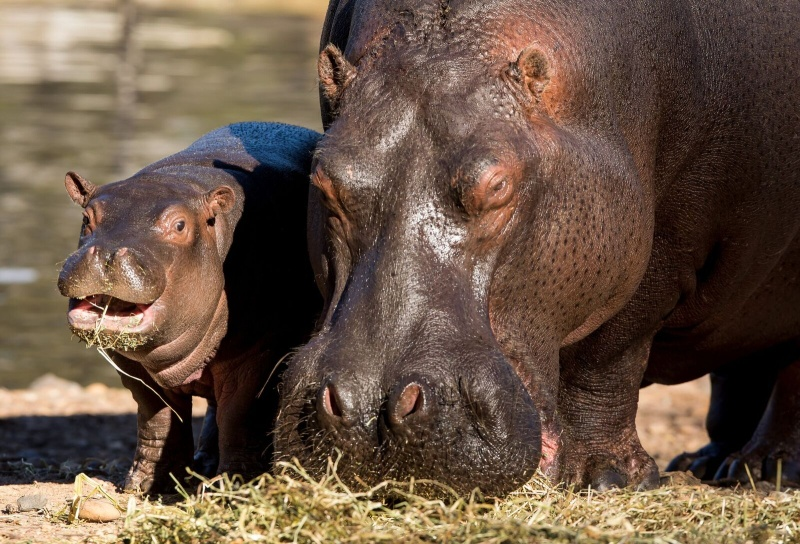hipopotamo: (271, 3, 800, 504), (53, 116, 346, 498)
